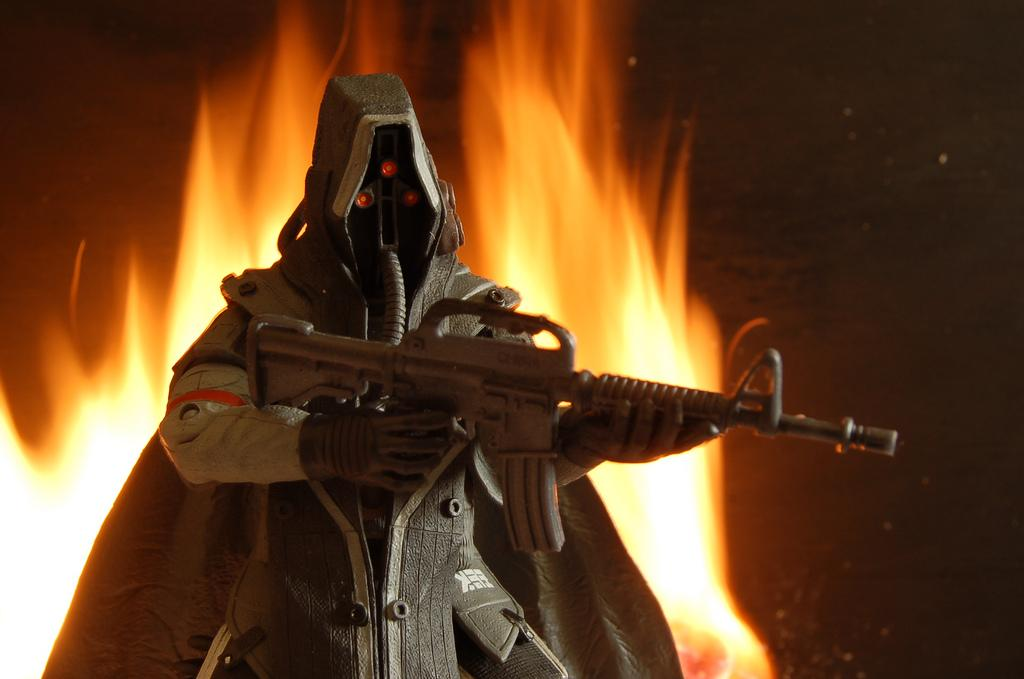fire: (483, 70, 693, 365), (177, 7, 285, 268), (625, 460, 773, 648), (0, 465, 142, 637)
